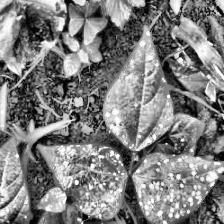Bean Rust: (105, 28, 172, 149), (38, 142, 128, 219), (136, 154, 224, 224), (0, 137, 31, 223)
